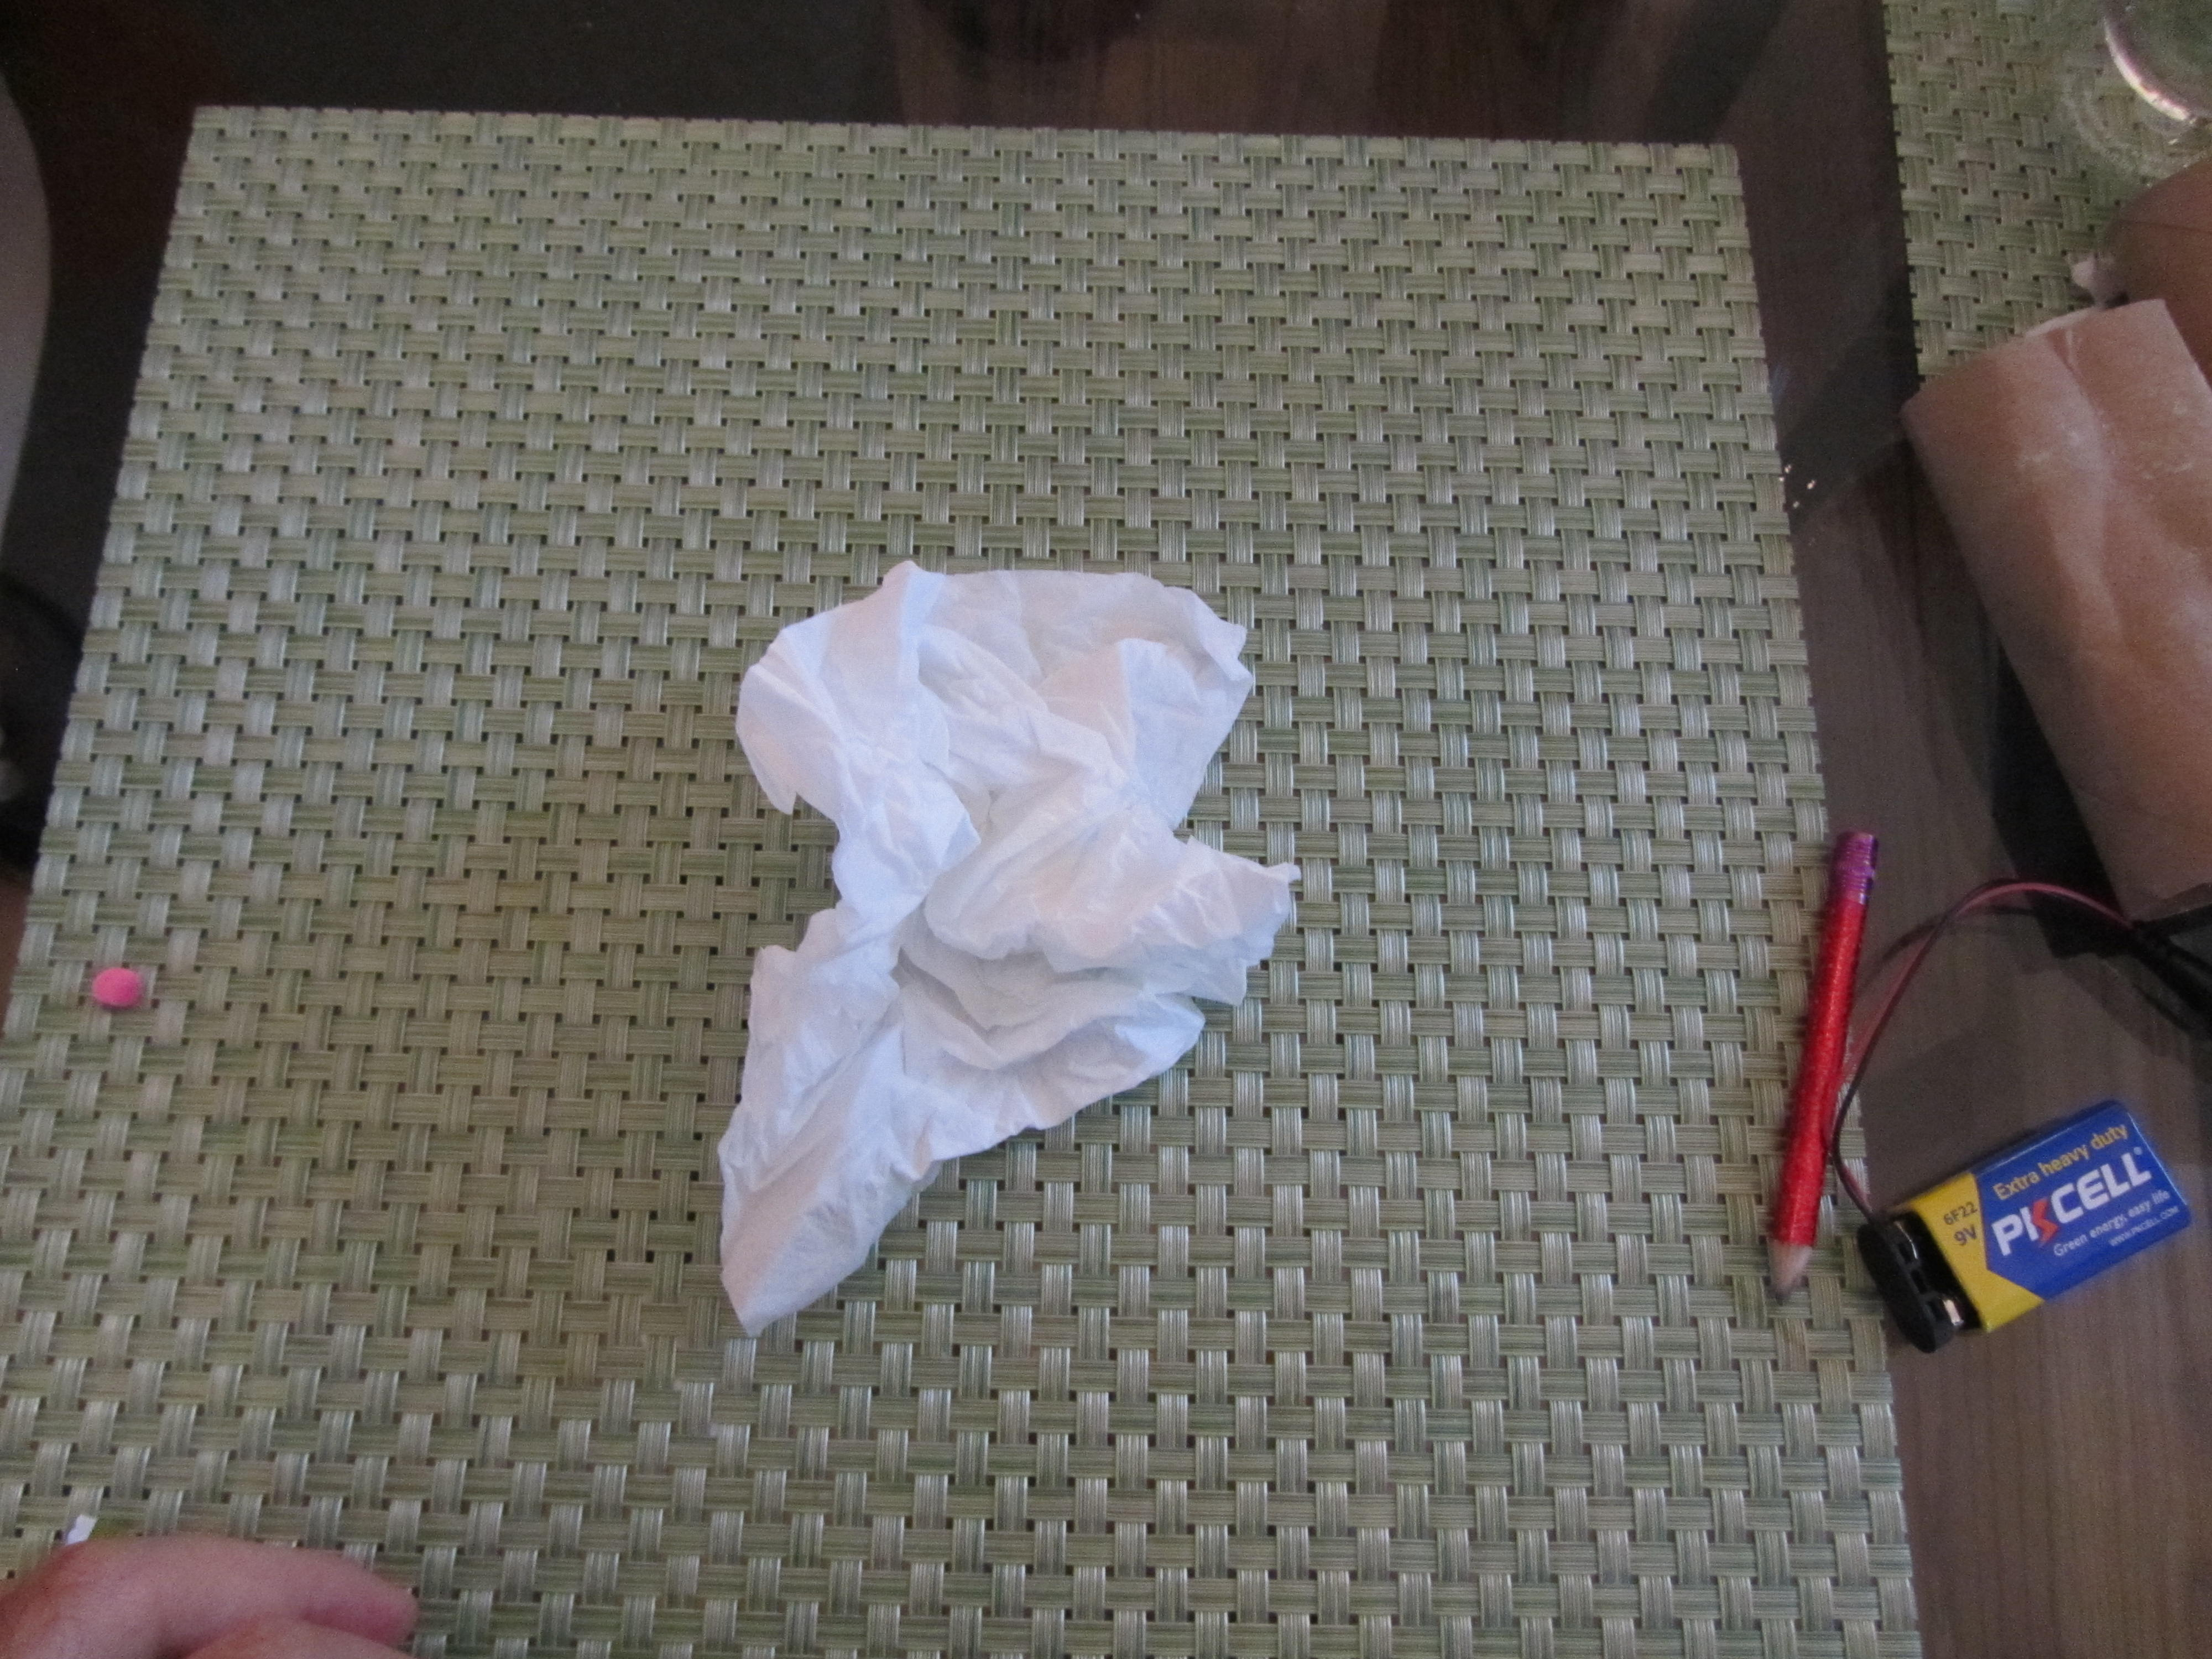tissue: (711, 559, 1308, 1344)
